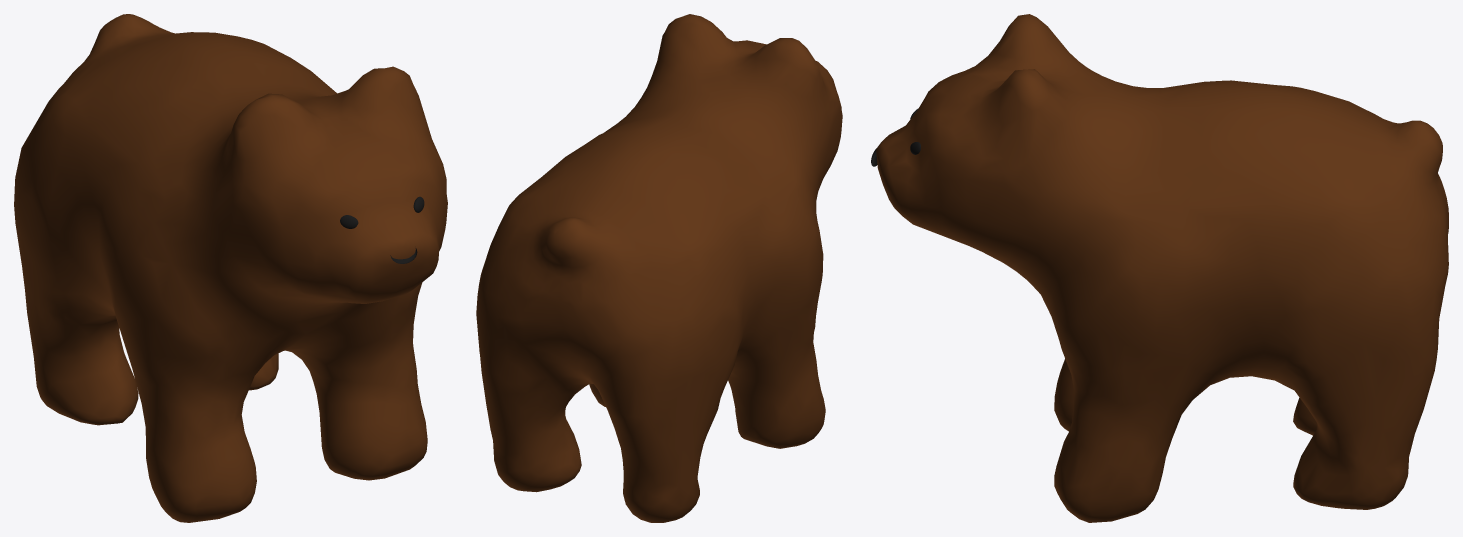
Rendered from Bear.glb.
3 renders of one model, left to right at view 1: azimuth 30°, elevation 25°; view 2: azimuth 150°, elevation 25°; view 3: azimuth 270°, elevation 25°, orthographic. The views are drawn at different scales.
Parts seen in each view (by area): view 1: Bear; view 2: Bear; view 3: Bear.
Boxes of the visible parts, <box> form: Bear: <box>14,14,447,522</box>; Bear: <box>476,14,842,522</box>; Bear: <box>871,14,1448,522</box>.
Bounding box in the file's own units: 1.33 × 1.91 × 2.34.
